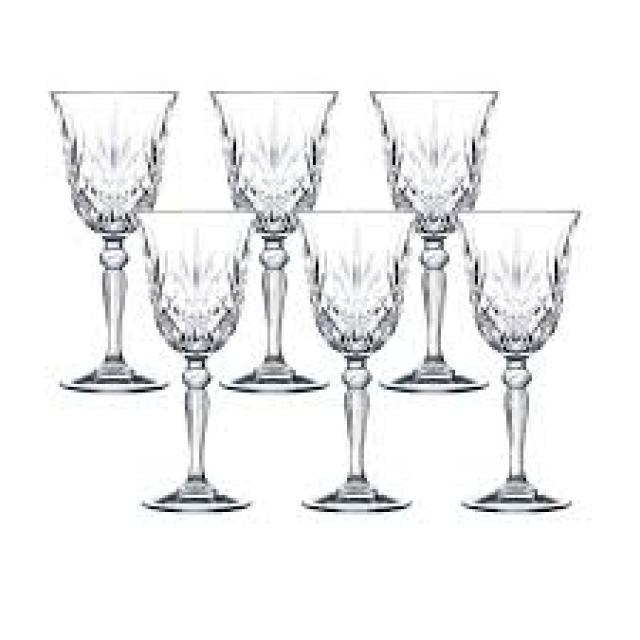Dry: (130, 206, 261, 513)
